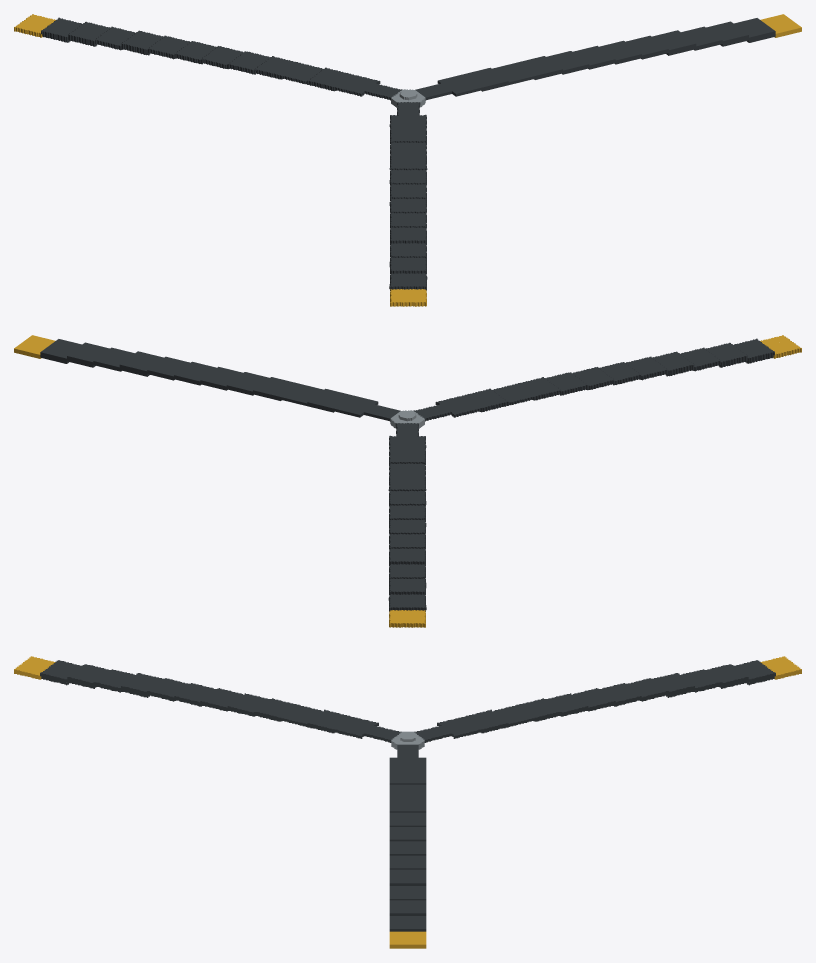
Rendered from heavy_cargo_helicopter_front_rotor.glb.
3 renders of one model, top to bottom at view 1: azimuth 30°, elevation 25°; view 2: azimuth 150°, elevation 25°; view 3: azimuth 270°, elevation 25°, orthographic.
Visible parts, largest first — view 1: body:compound; view 2: body:compound; view 3: body:compound.
Part boxes in pixels (left/top/right/bottom): body:compound: left=14, top=14, right=801, bottom=306; body:compound: left=14, top=335, right=801, bottom=627; body:compound: left=14, top=656, right=801, bottom=948.
Size of the model in its own units: 13.97 by 0.5625 by 16.12.
